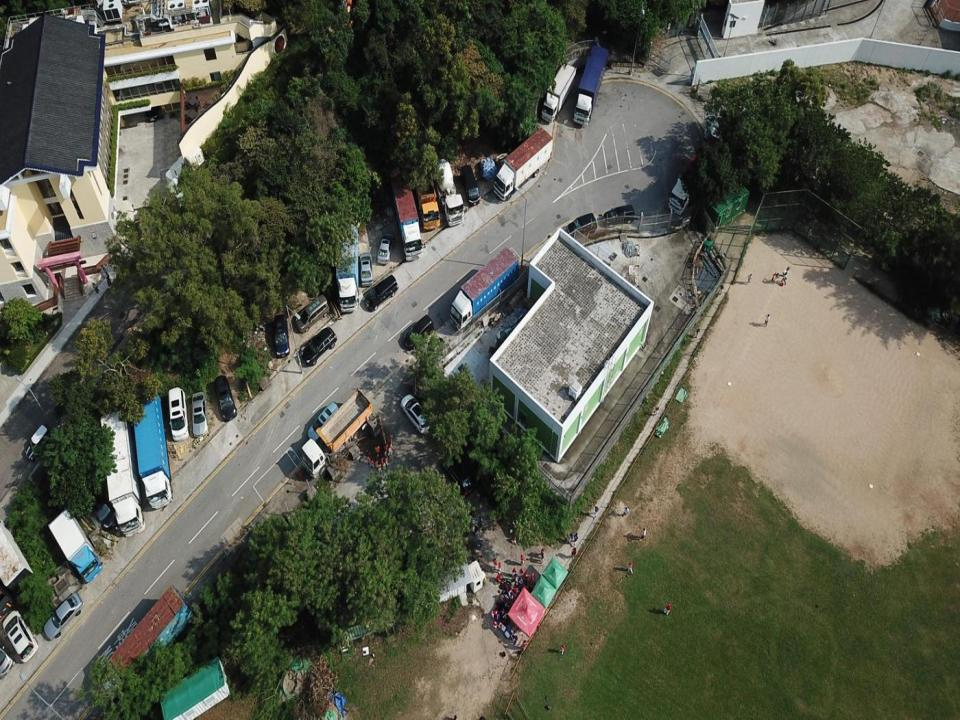car: (43, 591, 84, 641), (3, 608, 38, 662), (441, 454, 476, 496), (301, 326, 337, 366), (399, 394, 432, 435), (308, 400, 340, 442), (403, 313, 434, 349), (214, 375, 237, 422), (25, 423, 52, 461), (566, 211, 597, 238), (602, 203, 636, 227), (191, 392, 209, 437), (272, 314, 290, 358), (376, 230, 395, 265), (358, 251, 374, 287)
truck: (298, 387, 373, 479), (99, 409, 146, 538), (450, 246, 519, 333), (129, 391, 173, 510), (492, 127, 554, 201), (47, 508, 103, 583), (387, 162, 426, 261), (573, 43, 610, 126), (667, 151, 710, 214), (0, 518, 34, 593), (540, 61, 578, 124), (431, 157, 465, 227), (410, 155, 441, 231), (336, 223, 360, 312), (459, 163, 480, 206)
van: (295, 293, 329, 333), (364, 274, 399, 311), (168, 386, 189, 441)
